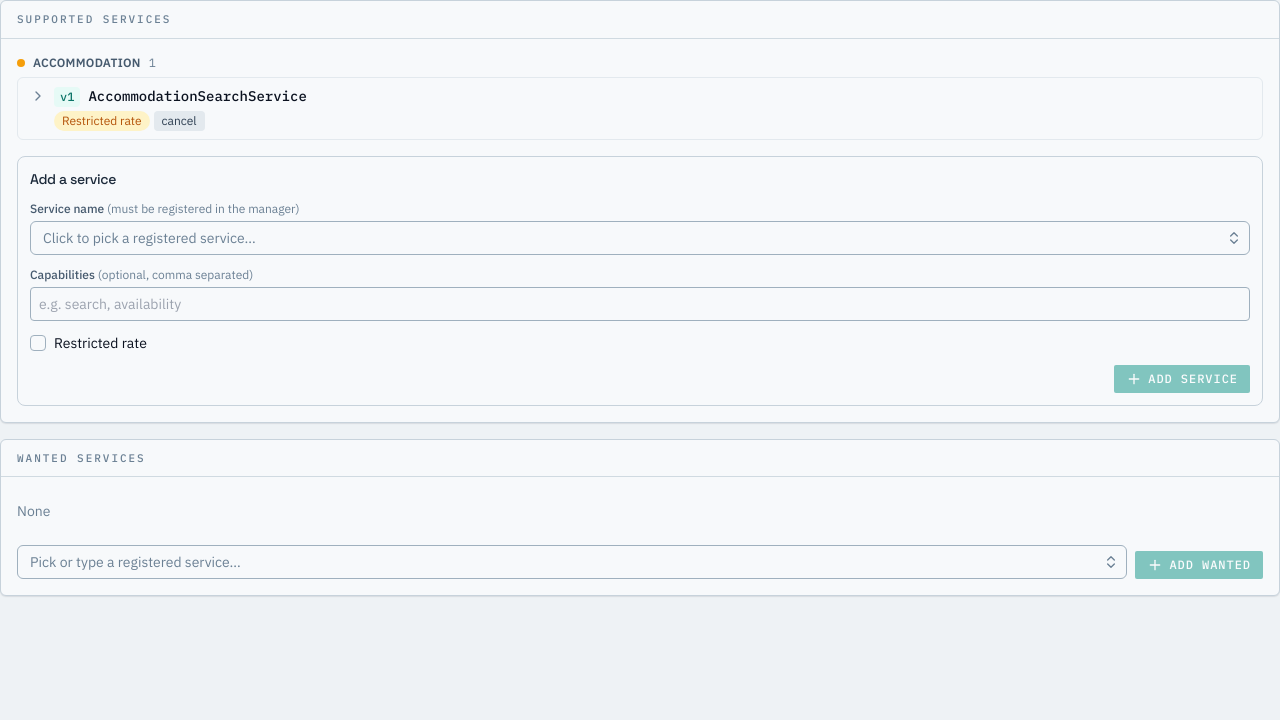
ServicesTab wrong-network guard › refuses the inline service writes while the wallet is on another chain
Click the button "v1 AccommodationSearchService Restricted rate cancel" at [198, 96], box [18, 78, 1262, 138]
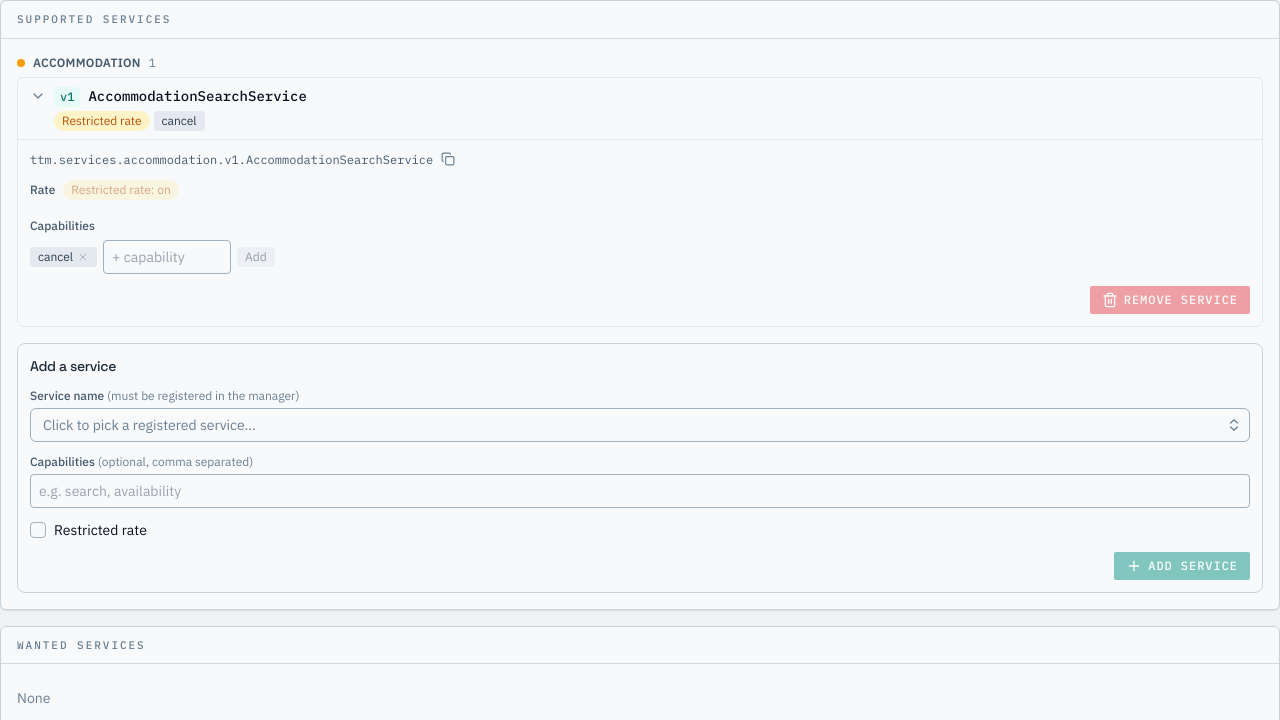
Expected: the button "Restricted rate: on" is disabled, [63, 180, 179, 200]
Expected: the button named "remove capability cancel" is disabled, [77, 250, 89, 262]
Expected: the button "Add" is disabled, [237, 246, 275, 266]
